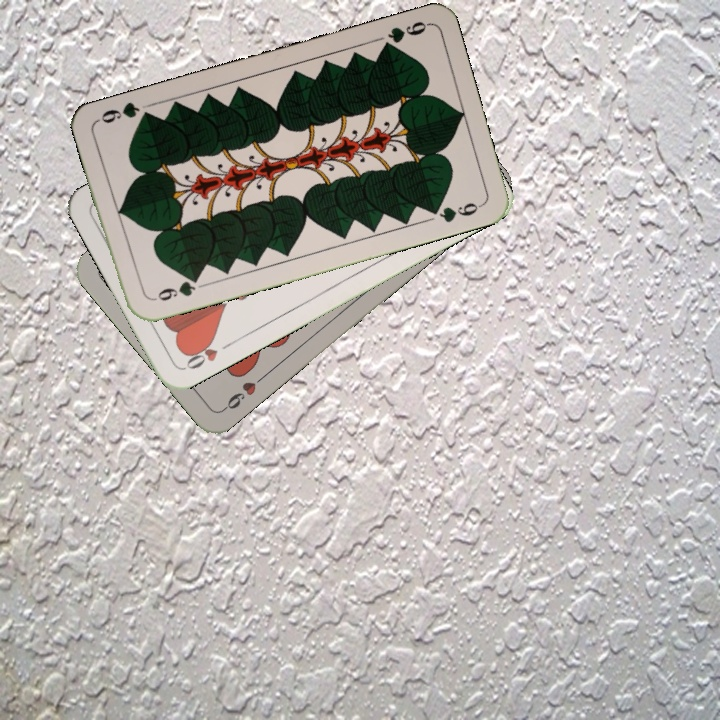G9: (377, 17, 431, 54), (147, 272, 202, 304)
H9: (217, 372, 267, 414)
HO: (180, 335, 235, 373)
